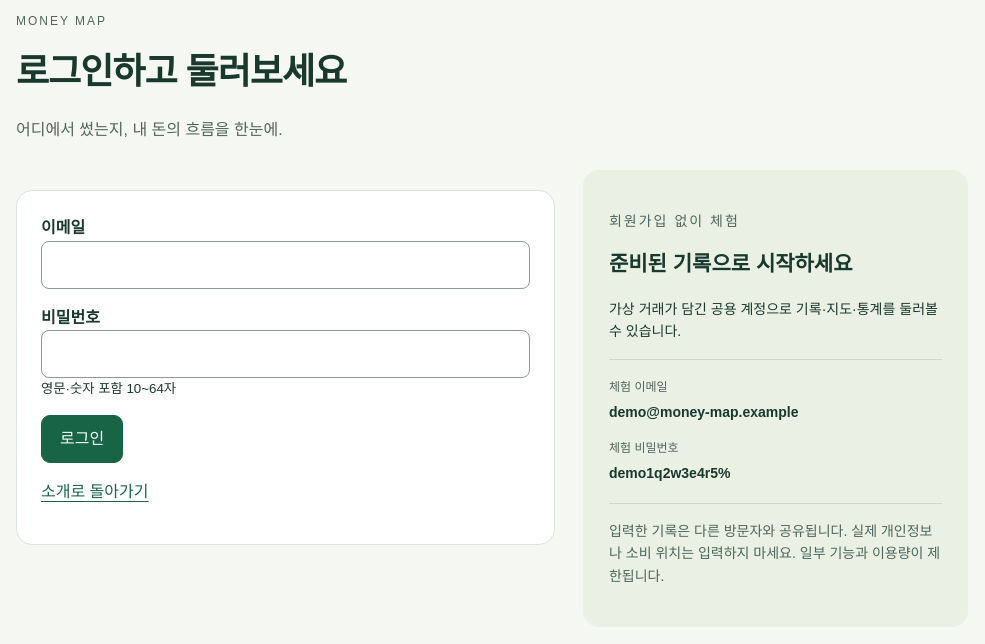
Test: 서버 필드 오류를 입력란의 접근성 설명으로 연결한다
Type "fixture@example.invalid" into the field labelled "이메일" at x=286, y=265, box [41,241,530,289]
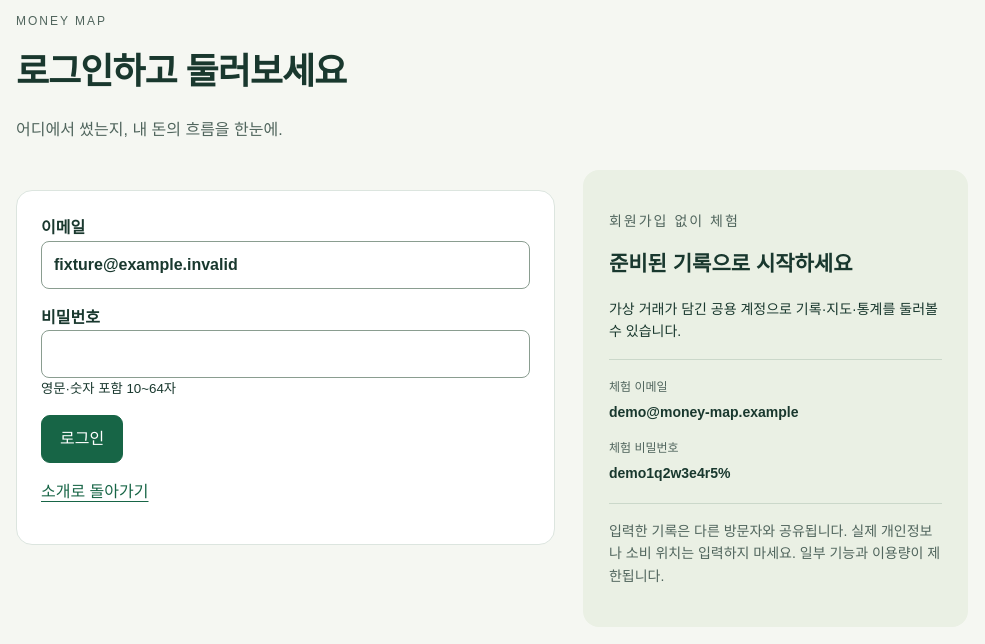
Type "Synthetic123" into the password field labelled "비밀번호" at x=286, y=354, box [41,330,530,378]
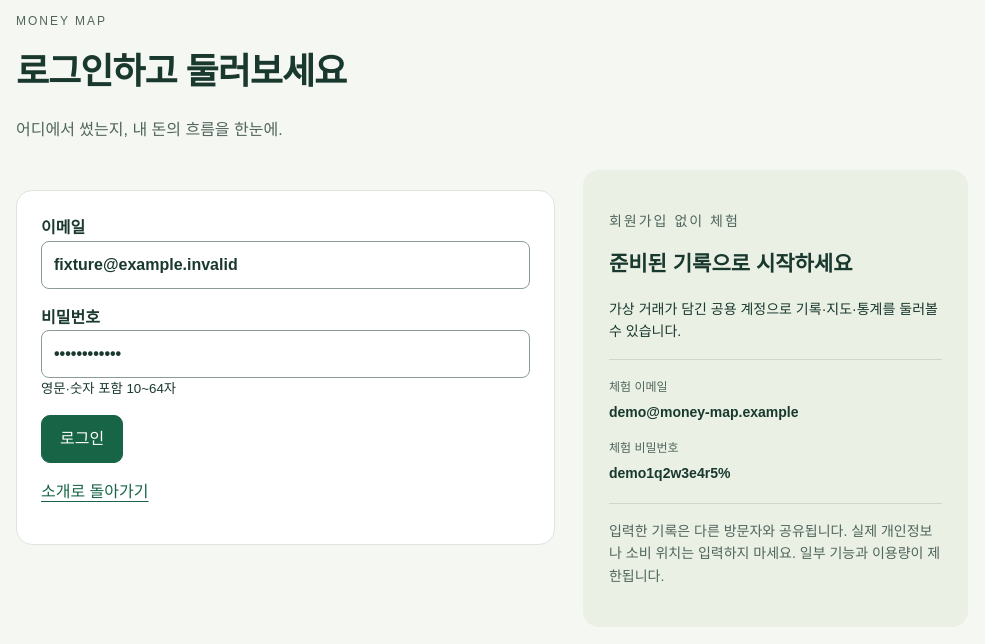
Click the button "로그인" at x=82, y=439, box [41,415,123,463]
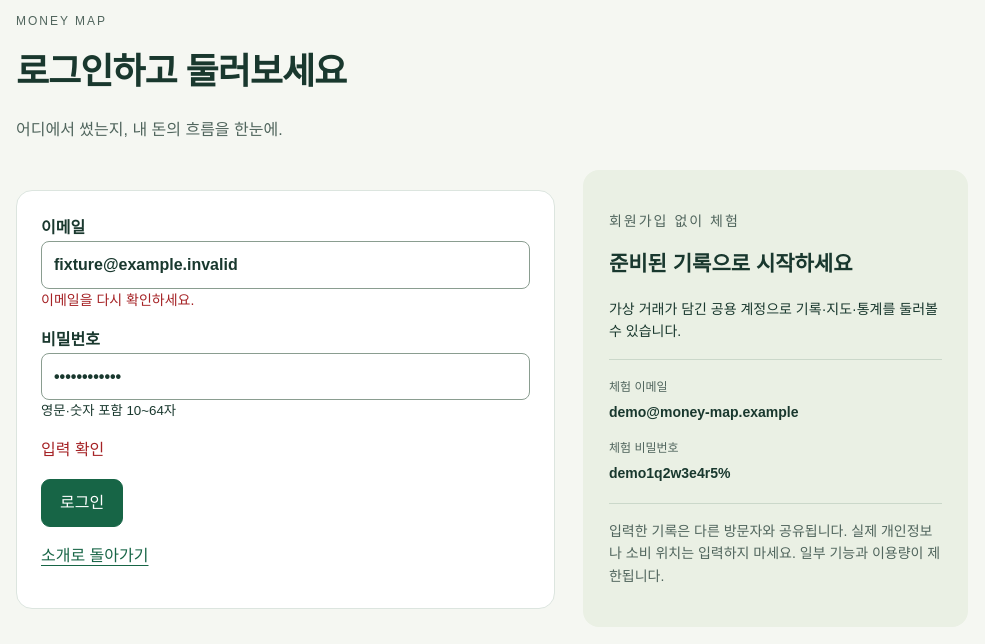
Expected: the text "이메일을 다시 확인하세요." is shown, [41,292,194,308]
